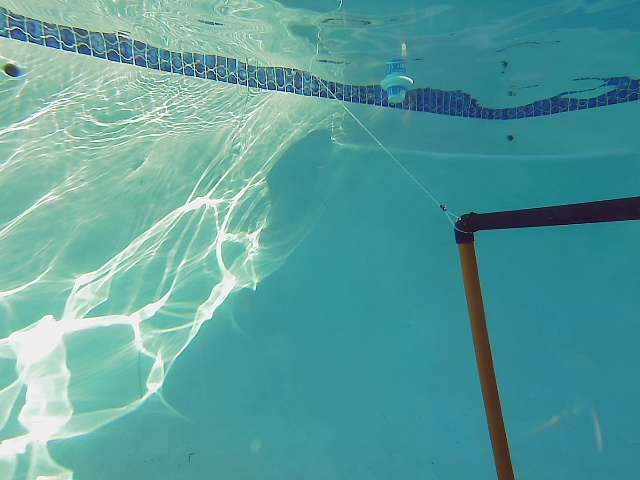Gate: (455, 238, 515, 480)
